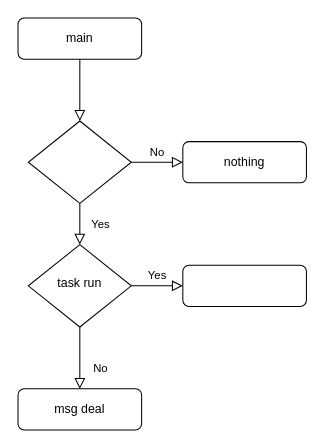
Some shapes in this 324 by 448 pixel diagram are drawn without their labels. Each missing label, with the box of its shape:
Check task list: (27, 120, 131, 203)
ignore msg: (182, 264, 306, 306)
